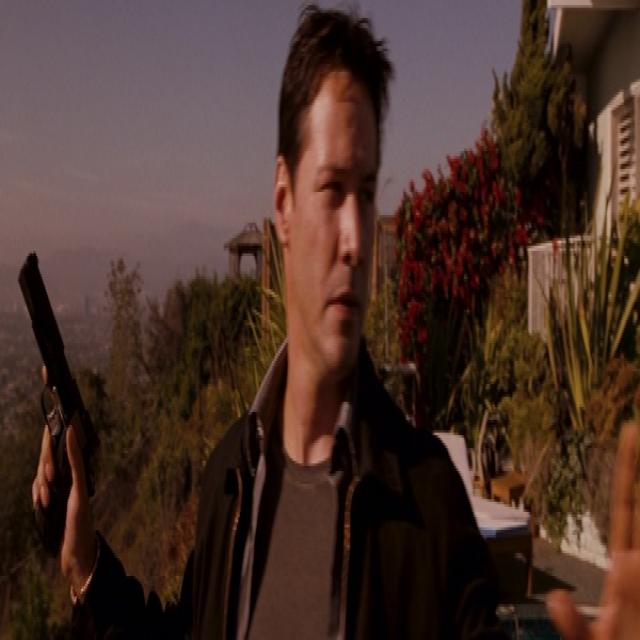weapons: (8, 239, 113, 579)
